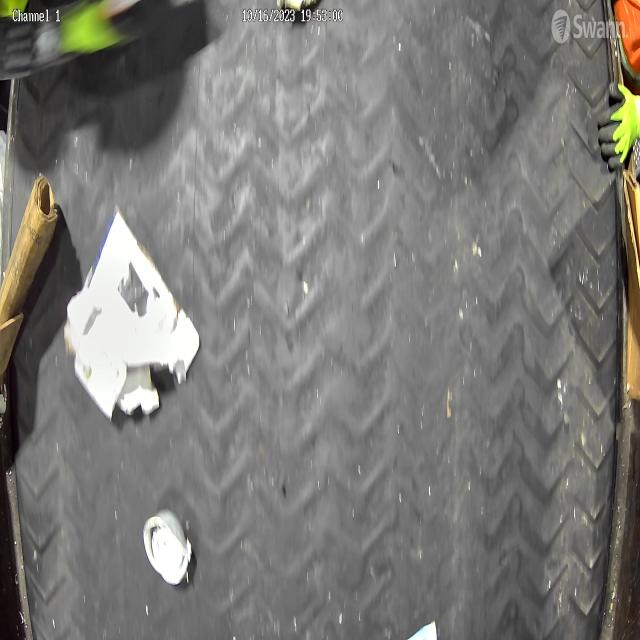can: (128, 488, 202, 591)
